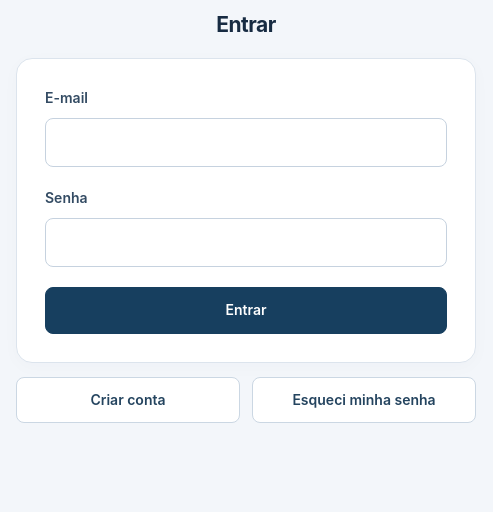
Test case: acesso real via cliente de Auth › apresenta falha de autenticação sem abrir o restaurante
Type "ana@example.test" into the field labelled "E-mail" at (246, 142), box [45,118,447,167]
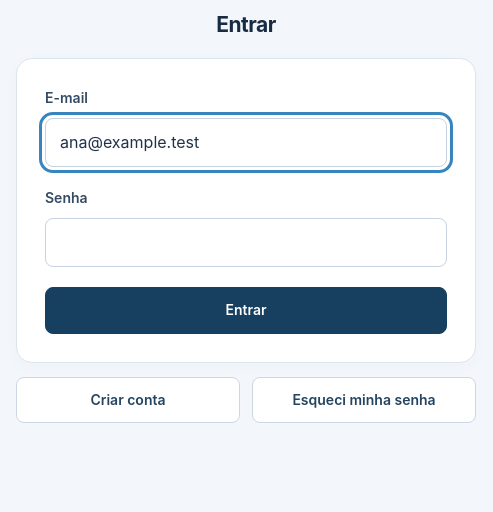
Type "password123" into the password field labelled "Senha" at (246, 242), box [45,218,447,267]
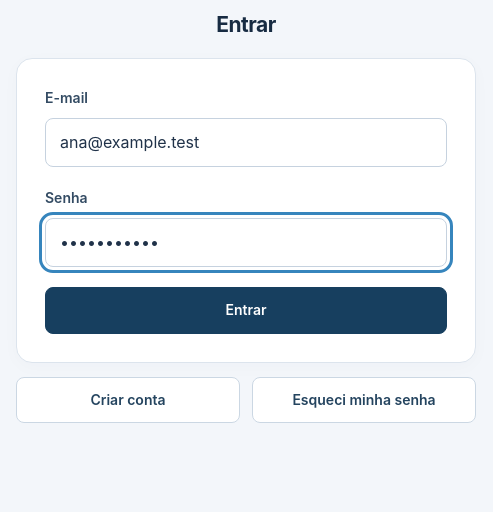
Click the button "Entrar" at (246, 310), box [45,287,447,334]
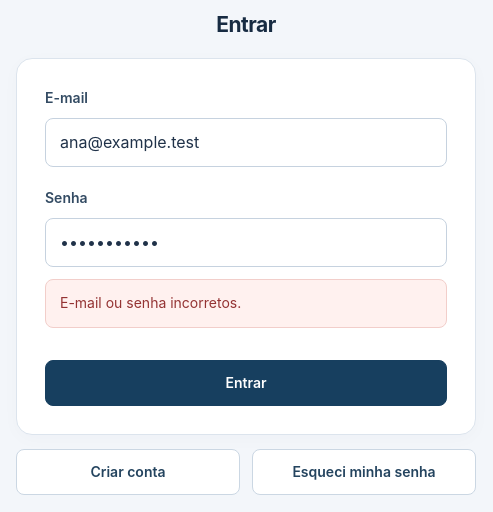
Expected: the message shows "E-mail ou senha incorretos", [60,294,241,311]
